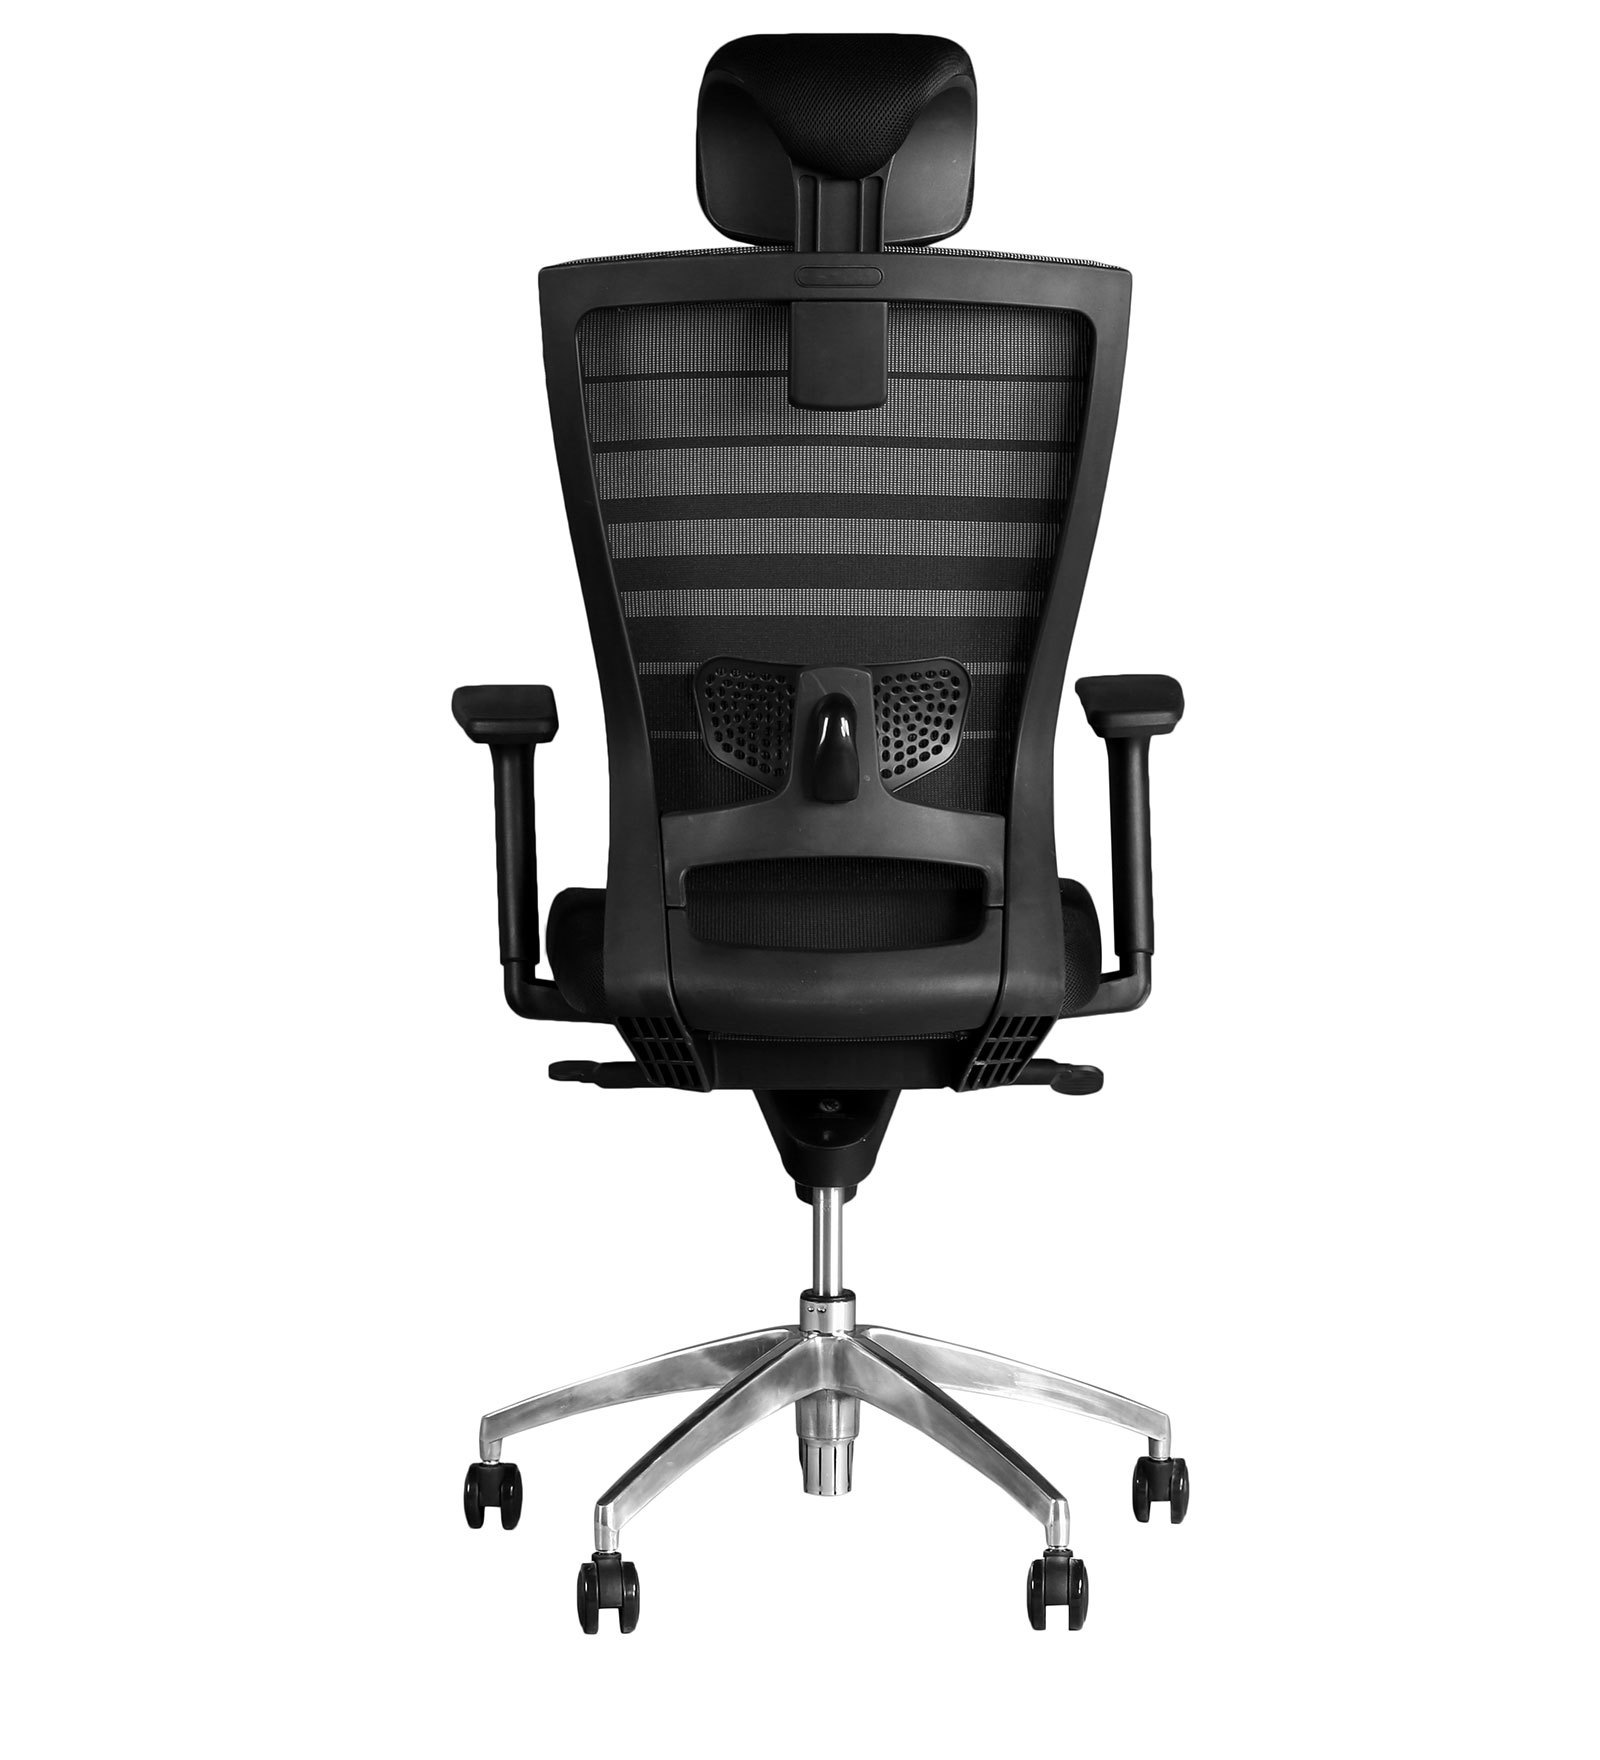Ergo High Back Ergonomic Chair in Black Colour by HomeTown: (385, 20, 1266, 1689)
